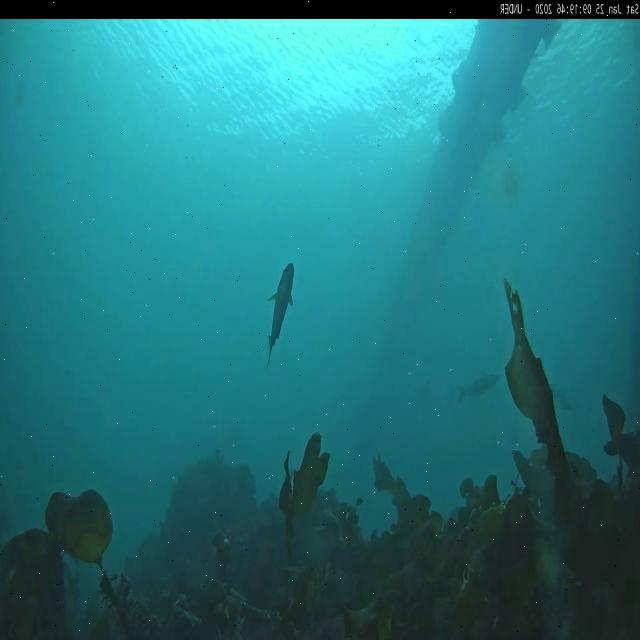fish: (263, 259, 296, 364), (458, 372, 502, 406), (548, 382, 575, 414)
